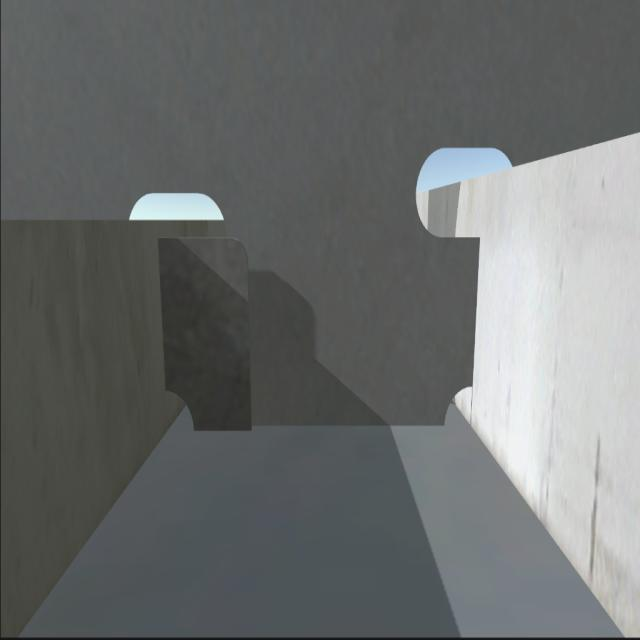fillet_hole: (436, 380, 475, 427), (160, 388, 193, 430)
fillet_yong_jeop_jang: (190, 422, 442, 438)
longi_yong_jeop_jang: (148, 240, 174, 384), (464, 235, 484, 385)
plate_CP05: (160, 234, 250, 427)
